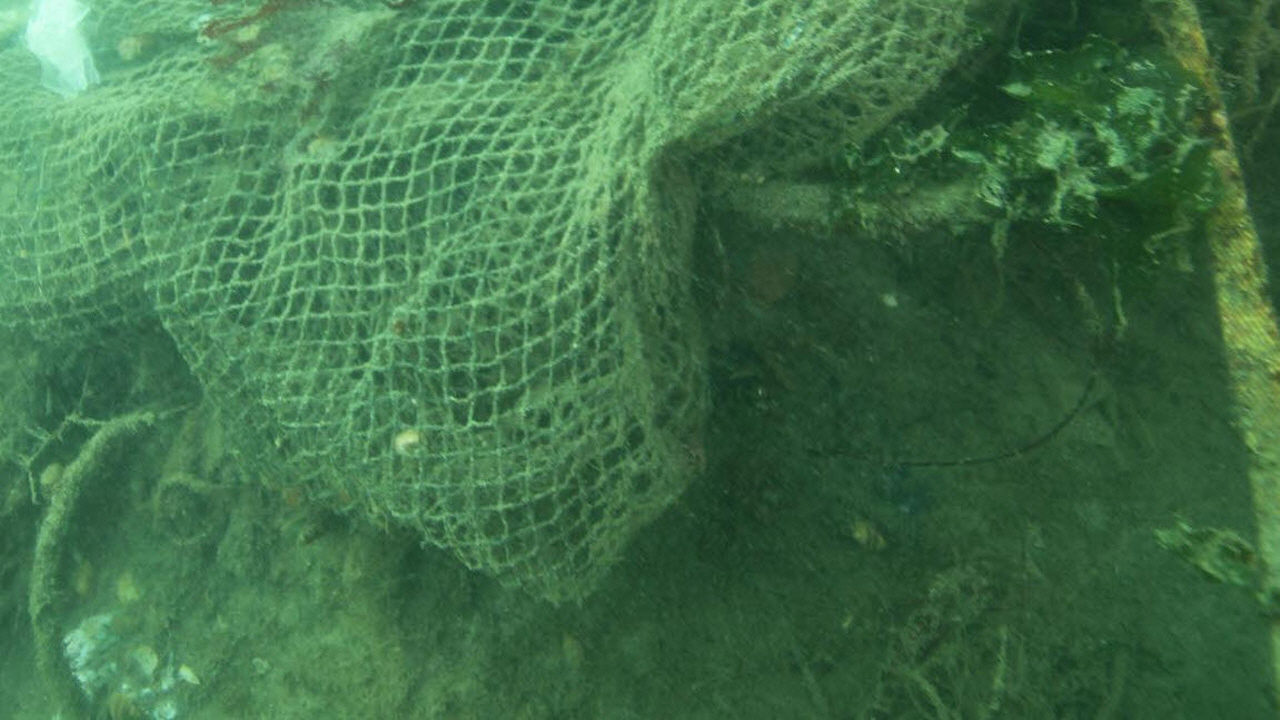fish net: (0, 0, 968, 602)
